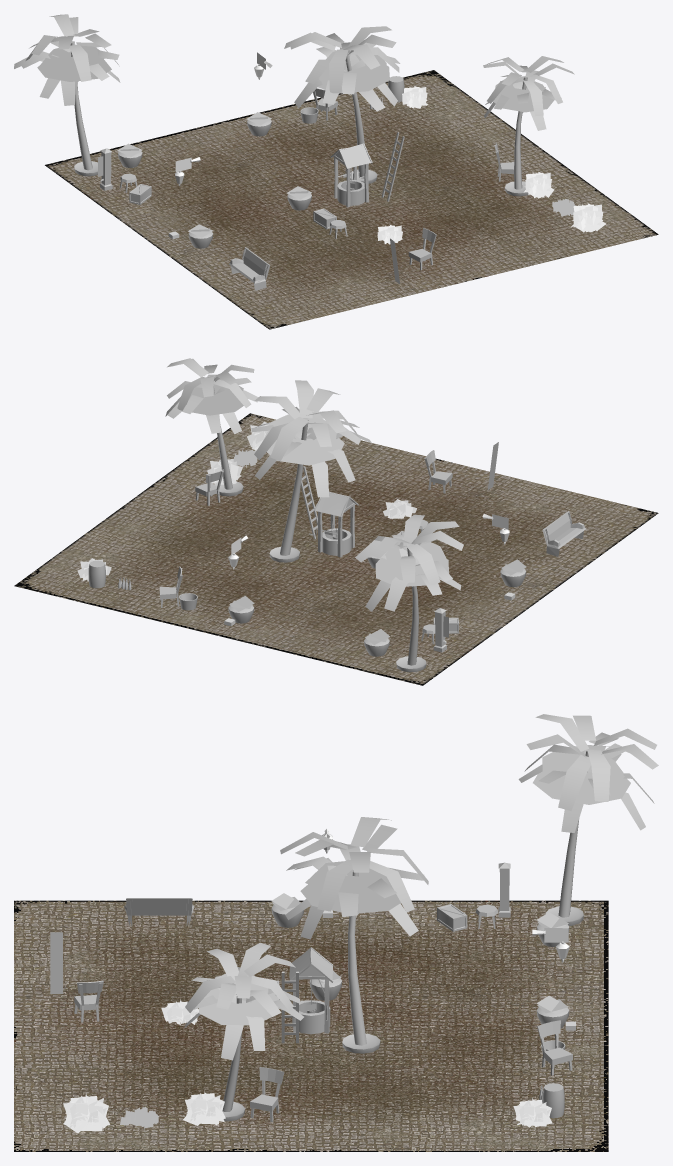
File: propsonly_3.gltf
3 views of the same model, one above another, from view 1: azimuth 30°, elevation 25°; view 2: azimuth 150°, elevation 25°; view 3: azimuth 270°, elevation 25° (orthographic). The views are drawn at different scales.
Parts seen in each view (by area): view 1: ground.003, prop_tree2, prop_tree3, prop_tree1.001, prop_well, prop_bench1.004, prop_building_bush_05, prop_building_bush_05.003, prop_chair1.001, prop_waterpump, prop_building_bush_05.002, prop_flowerpot.002 (+4 smaller); view 2: ground.003, prop_tree2, prop_tree3, prop_tree1.001, prop_well, prop_bench1.004, prop_waterpump, prop_flowerpot.001, prop_flowerpot, prop_flowerpot.002, prop_chair1.003, prop_chair1.001 (+1 smaller); view 3: ground.003, prop_tree2, prop_tree3, prop_tree1.001, prop_well, prop_building_bush_05, prop_bench1.004, prop_building_bush_05.003, prop_chair1.003, prop_chair1.002, prop_building_bush_05.002, prop_broom (+5 smaller).
Boxes of the visible parts, x1=… form: ground.003: x1=45, y1=70, x2=658, y2=329; prop_tree2: x1=284, y1=26, x2=400, y2=178; prop_tree3: x1=14, y1=14, x2=120, y2=170; prop_tree1.001: x1=483, y1=56, x2=574, y2=189; prop_well: x1=330, y1=143, x2=372, y2=207; prop_bench1.004: x1=228, y1=247, x2=270, y2=290; prop_building_bush_05: x1=571, y1=203, x2=605, y2=232; prop_building_bush_05.003: x1=523, y1=172, x2=554, y2=198; prop_chair1.001: x1=408, y1=228, x2=436, y2=270; prop_waterpump: x1=98, y1=148, x2=112, y2=190; prop_building_bush_05.002: x1=402, y1=86, x2=427, y2=108; prop_flowerpot.002: x1=188, y1=224, x2=213, y2=248; ground.003: x1=14, y1=413, x2=658, y2=685; prop_tree2: x1=251, y1=380, x2=372, y2=555; prop_tree3: x1=355, y1=514, x2=463, y2=665; prop_tree1.001: x1=165, y1=358, x2=258, y2=489; prop_well: x1=309, y1=491, x2=358, y2=557; prop_bench1.004: x1=542, y1=511, x2=586, y2=556; prop_waterpump: x1=433, y1=608, x2=448, y2=652; prop_flowerpot.001: x1=364, y1=629, x2=389, y2=656; prop_flowerpot: x1=228, y1=596, x2=254, y2=623; prop_flowerpot.002: x1=500, y1=559, x2=526, y2=587; prop_chair1.003: x1=195, y1=469, x2=223, y2=505; prop_chair1.001: x1=424, y1=450, x2=452, y2=493; ground.003: x1=14, y1=900, x2=608, y2=1151; prop_tree2: x1=280, y1=817, x2=428, y2=1045; prop_tree3: x1=518, y1=714, x2=658, y2=917; prop_tree1.001: x1=184, y1=942, x2=303, y2=1111; prop_well: x1=289, y1=947, x2=333, y2=1034; prop_building_bush_05: x1=63, y1=1093, x2=109, y2=1133; prop_bench1.004: x1=124, y1=898, x2=194, y2=926; prop_building_bush_05.003: x1=183, y1=1090, x2=225, y2=1125; prop_chair1.003: x1=250, y1=1067, x2=284, y2=1122; prop_chair1.002: x1=537, y1=1020, x2=572, y2=1075; prop_building_bush_05.002: x1=513, y1=1098, x2=552, y2=1127; prop_broom: x1=50, y1=932, x2=62, y2=993.
Size of what is drawn, in the model's own units: 3.51 by 1.3 by 3.58.
